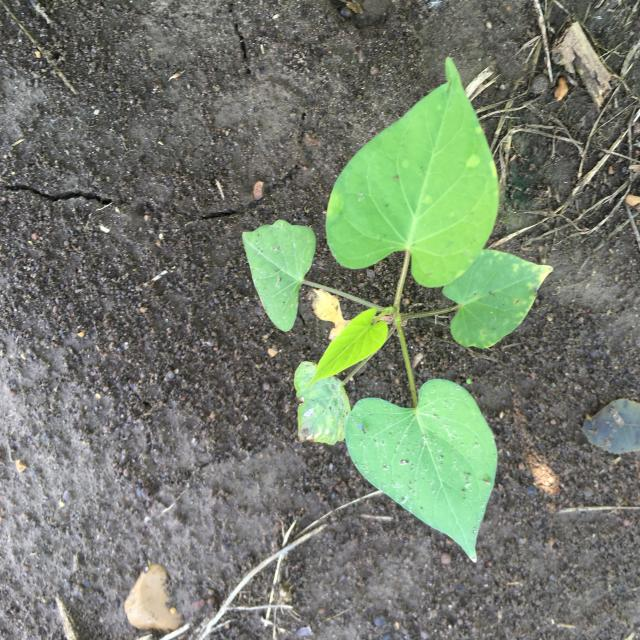MorningGlory: (242, 58, 554, 562)
